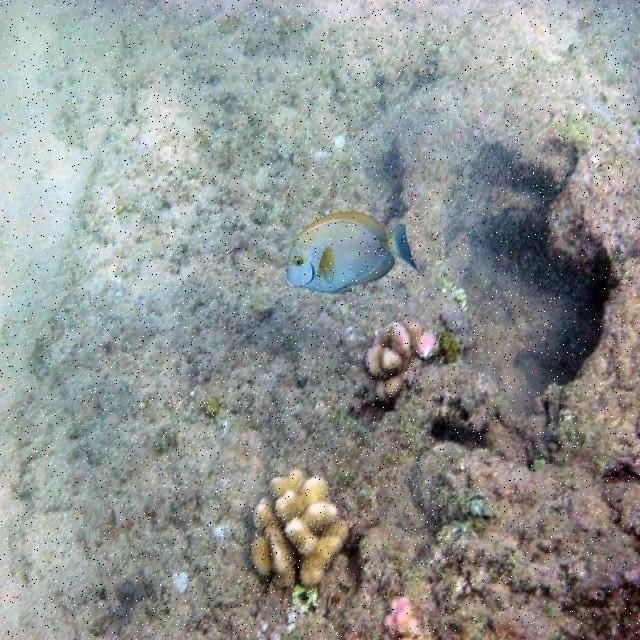fish: (287, 212, 418, 296)
reefs: (251, 467, 351, 590), (362, 318, 438, 408)
